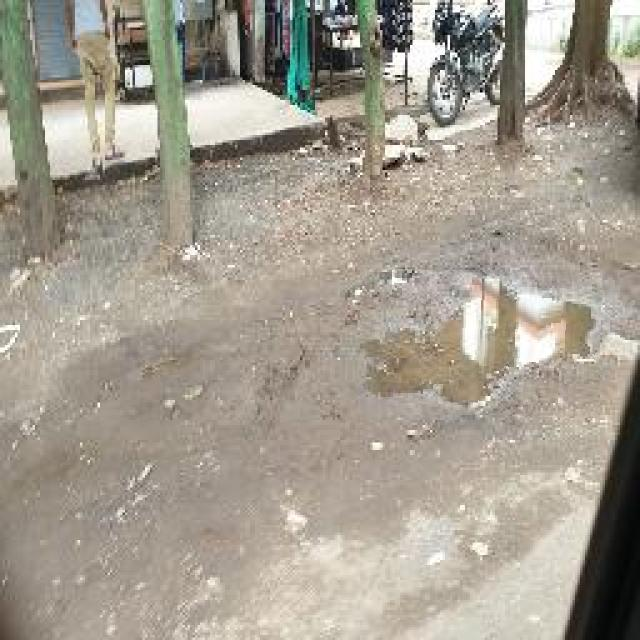puddle: (360, 270, 602, 417)
